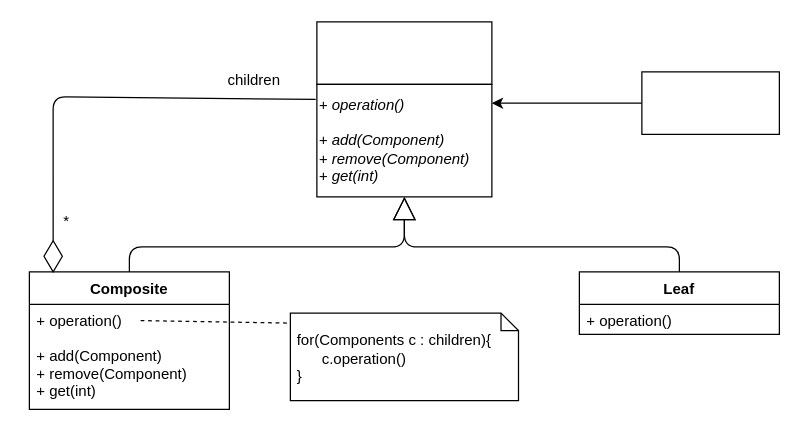
Some shapes in this 801 by 435 pixel diagram are drawn without their labels. Each missing label, with the centre of its shape:
Client: the point at 710,102
Component: the point at 404,52
